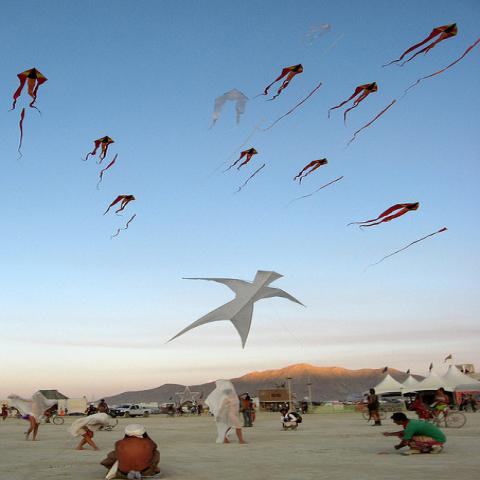car: (110, 404, 162, 418), (158, 407, 168, 414)
